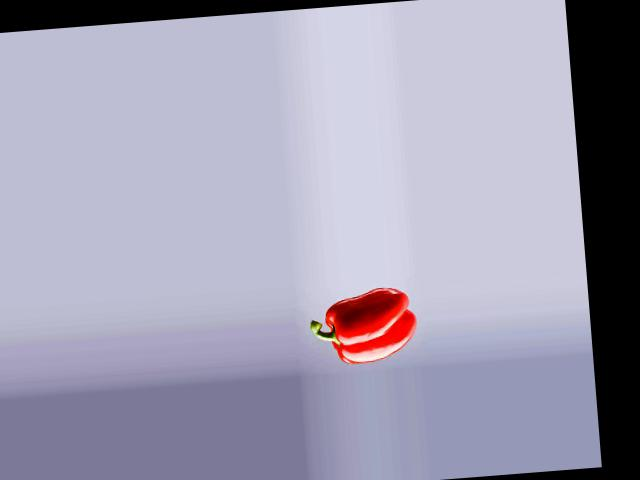bell_pepper: (306, 284, 416, 370)
